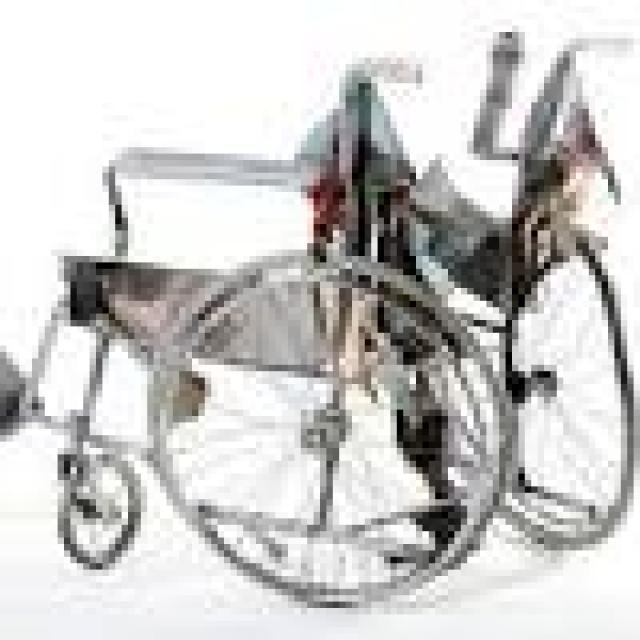wheelchairs: (70, 70, 621, 614)
